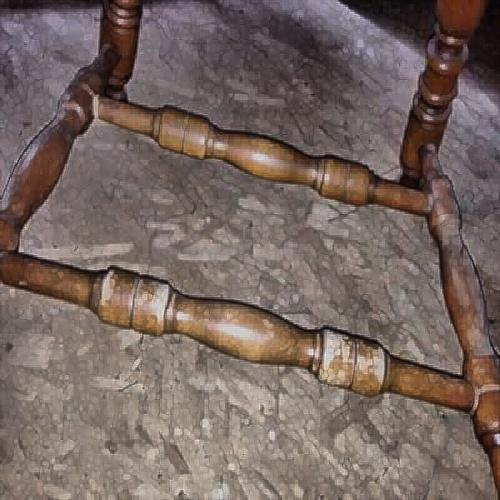table: (49, 86, 480, 400)
